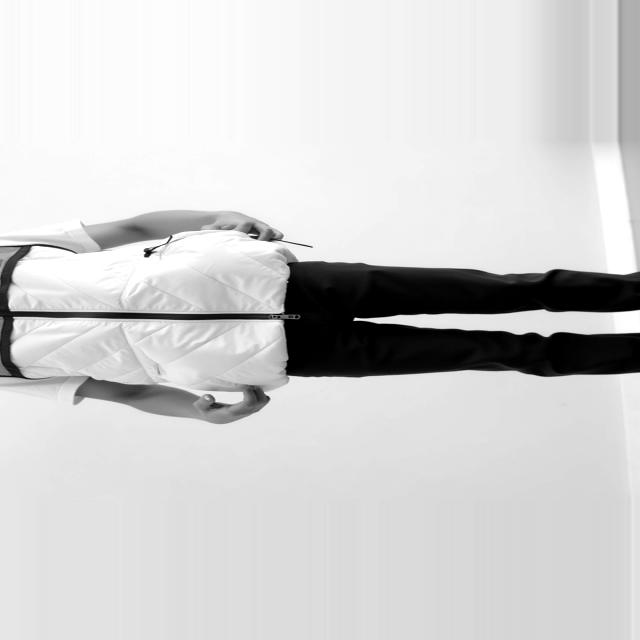Vest: (0, 245, 284, 388)
